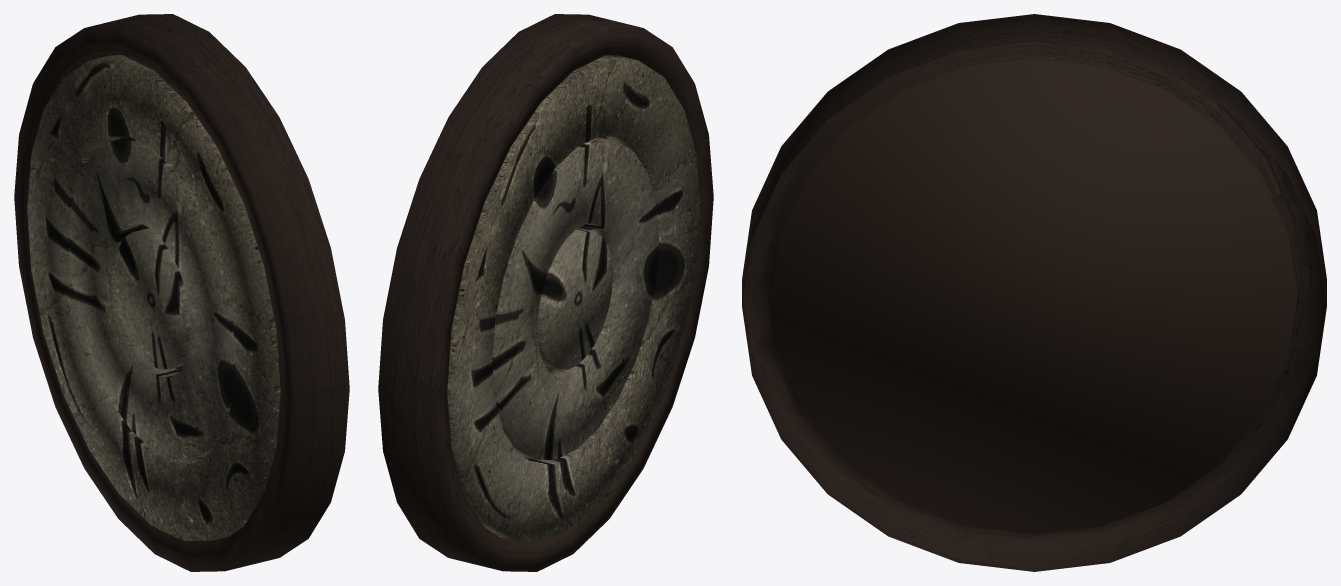
File: FPH_PuzzleCircle.fbx
3 renders of one model, left to right at view 1: azimuth 30°, elevation 25°; view 2: azimuth 150°, elevation 25°; view 3: azimuth 270°, elevation 25°, orthographic. The views are drawn at different scales.
Visible parts, largest first — view 1: FPH_PuzzleCircle, FPH_PuzzleCircle.001, FPH_PuzzleCircle.002, FPH_PuzzleCircle.003; view 2: FPH_PuzzleCircle, FPH_PuzzleCircle.001, FPH_PuzzleCircle.002, FPH_PuzzleCircle.003; view 3: FPH_PuzzleCircle.
Part boxes in pixels (x1,y1,x2,y2): FPH_PuzzleCircle: [14, 14, 349, 571]; FPH_PuzzleCircle.001: [27, 55, 280, 540]; FPH_PuzzleCircle.002: [69, 136, 235, 459]; FPH_PuzzleCircle.003: [115, 228, 190, 369]; FPH_PuzzleCircle: [378, 14, 713, 571]; FPH_PuzzleCircle.001: [447, 55, 700, 540]; FPH_PuzzleCircle.002: [492, 136, 658, 459]; FPH_PuzzleCircle.003: [537, 228, 612, 369]; FPH_PuzzleCircle: [742, 14, 1326, 571].
Bounding box in the file's own units: 0.2748 × 2.26 × 2.26.
